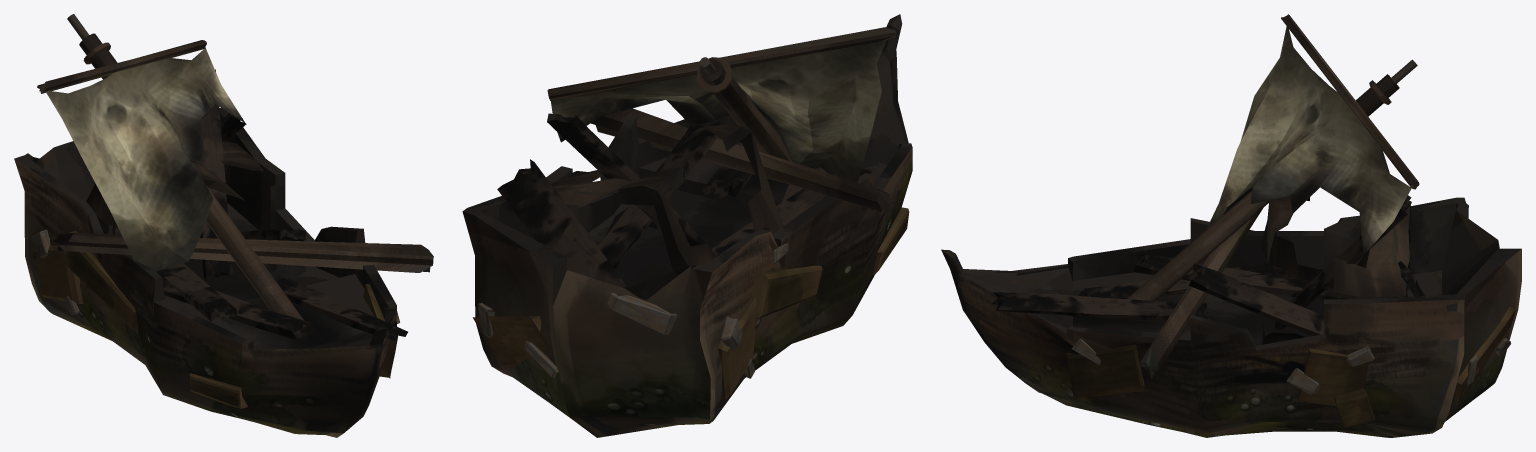
The model's file is boattest2 1.fbx.
3 views of the same model, side by side, from view 1: azimuth 30°, elevation 25°; view 2: azimuth 150°, elevation 25°; view 3: azimuth 270°, elevation 25° (orthographic). The views are drawn at different scales.
Parts seen in each view (by area): view 1: base; view 2: base; view 3: base.
Boxes of the visible parts, <box> form: base: <box>14,14,433,437</box>; base: <box>462,14,912,437</box>; base: <box>941,14,1521,437</box>.
Bounding box in the file's own units: 180 × 283 × 174.
27 materials, 27 textured.
